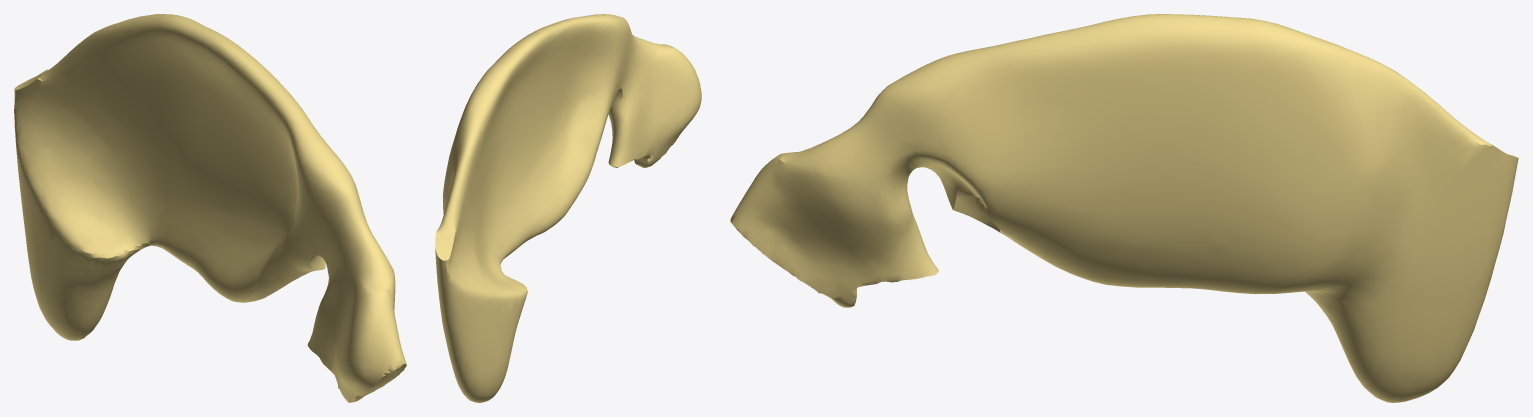
The model's file is fma62152-r_mm2820m.glb.
3 views of the same model, side by side, from view 1: azimuth 30°, elevation 25°; view 2: azimuth 150°, elevation 25°; view 3: azimuth 270°, elevation 25° (orthographic). The views are drawn at different scales.
Parts seen in each view (by area): view 1: FMA62152-R_MM2820M; view 2: FMA62152-R_MM2820M; view 3: FMA62152-R_MM2820M.
Boxes of the visible parts, box(x1,y1,x2,y2) form: FMA62152-R_MM2820M: box(14, 14, 406, 402); FMA62152-R_MM2820M: box(435, 14, 701, 402); FMA62152-R_MM2820M: box(730, 14, 1518, 402).
Bounding box in the file's own units: 0.00442 × 0.0132 × 0.0229.
